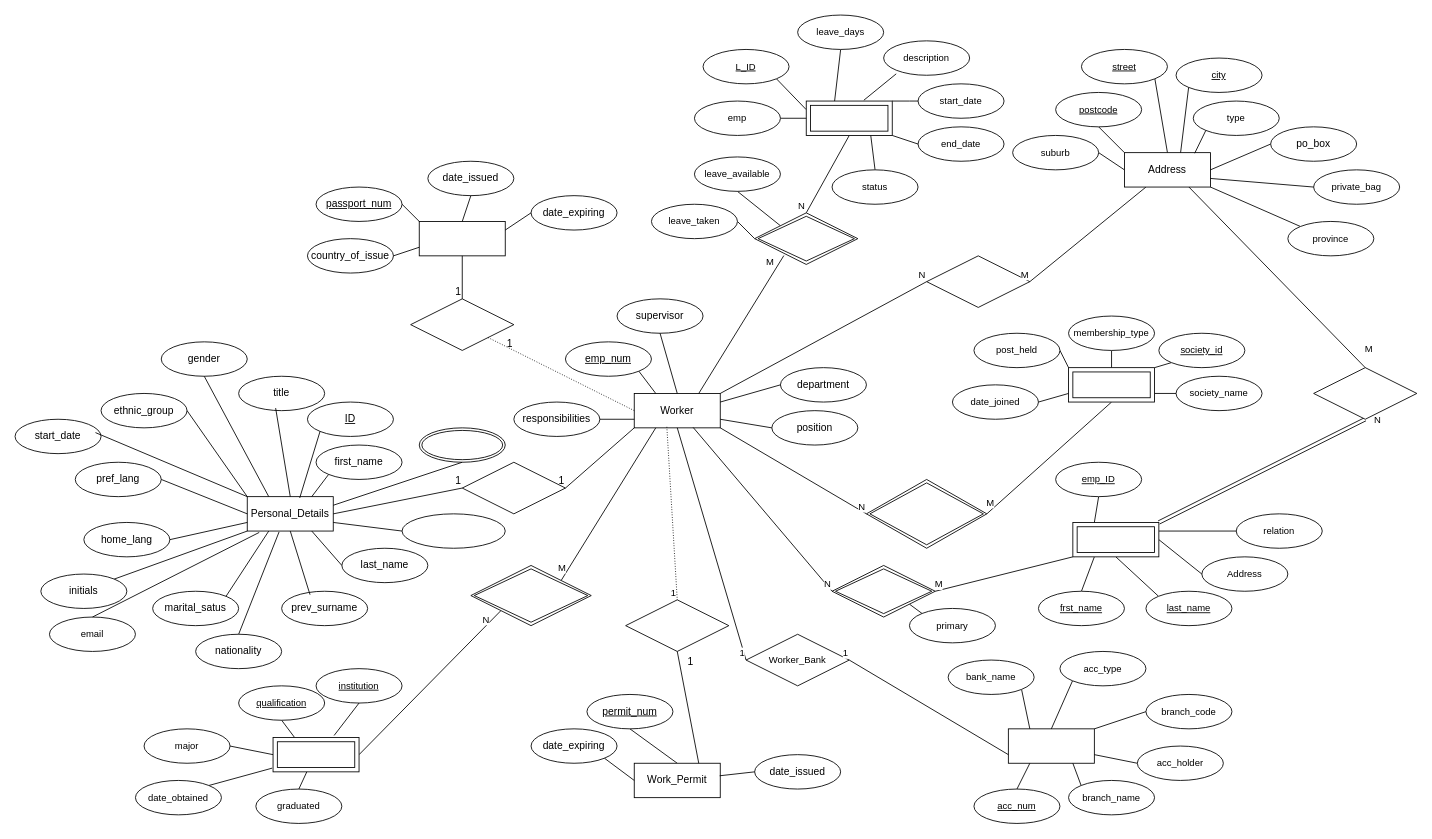
The diagram is 1432 pixels wide and 839 high, and some of its shapes have lost their labels. Each missing label, with the centre of its shape:
Bank_Details: the point at 1050,745
highest_qualifications: the point at 453,530
Kin_Addr: the point at 1365,393
Leave_Request: the point at 848,117
Membership: the point at 1111,384
Next_of_Kin: the point at 1115,539
Passport: the point at 461,238
phone_num: the point at 461,444
Qualifications: the point at 315,754
Worker_Addr: the point at 978,281
Worker_Kin: the point at 883,591
Worker_Leave: the point at 806,238
Worker_Membership: the point at 926,513
Worker_Passport: the point at 462,324
Worker_Permit: the point at 677,625
Worker_Personal: the point at 513,487
Worker_Qualification: the point at 530,595
